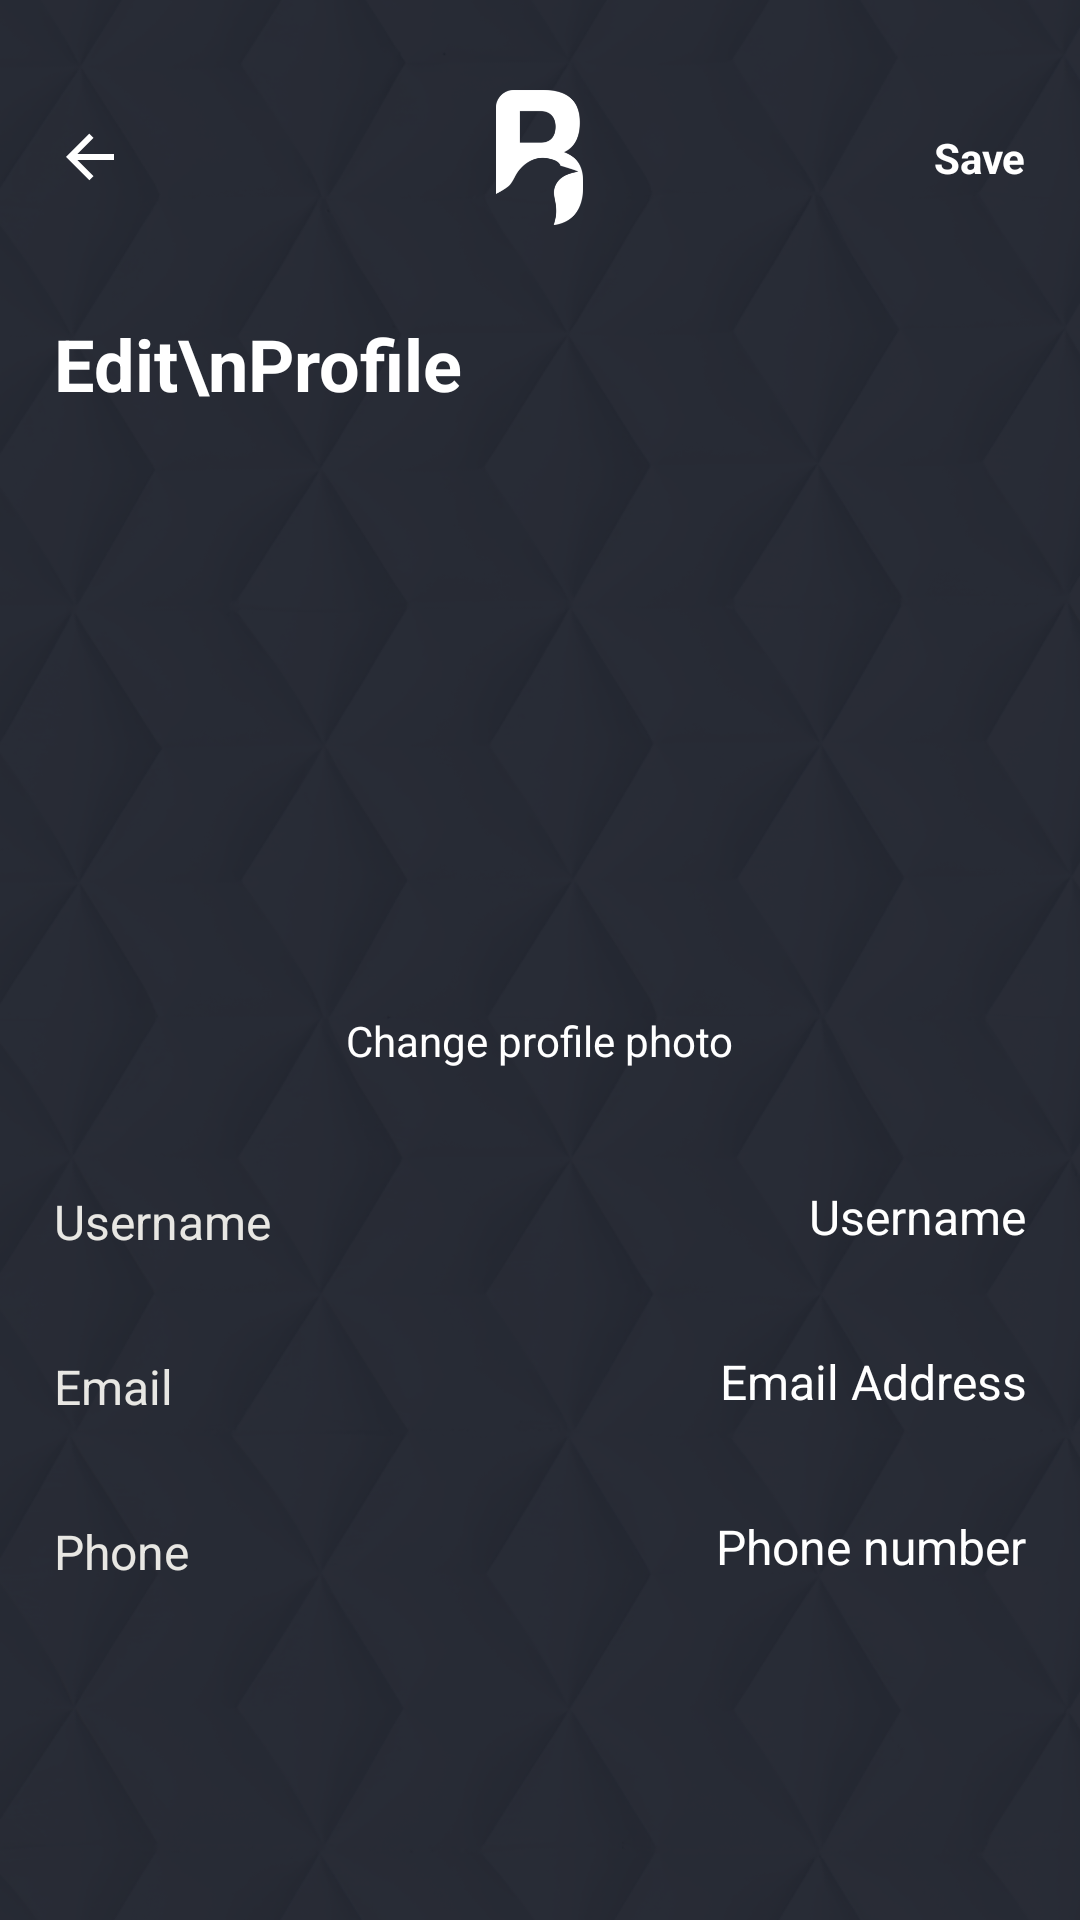

Icon click points for this 1080 × 1920 phone screenshot, format point (x, y):
back: point (90, 156)
